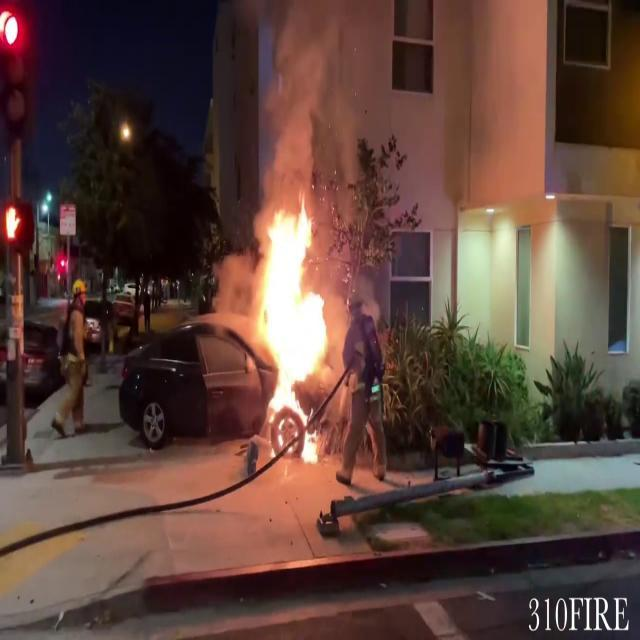Fire: (244, 190, 341, 464)
